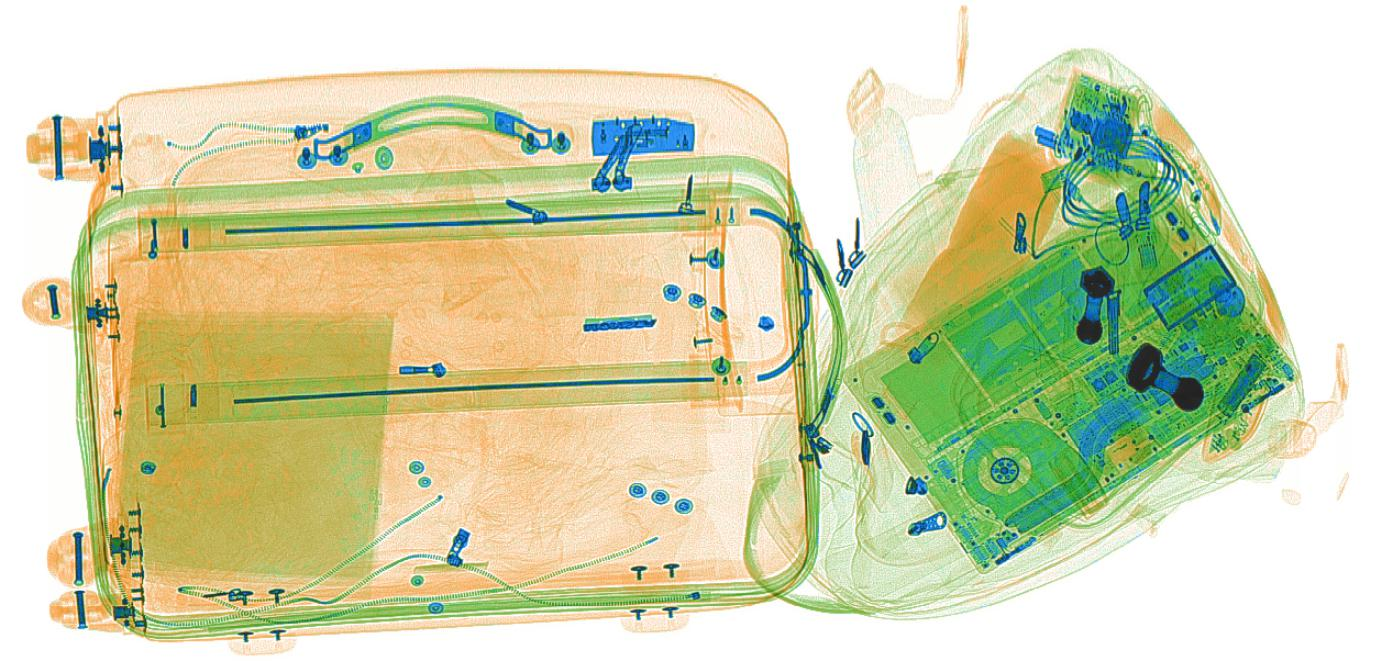battery: (1215, 351, 1268, 421)
seal: (1124, 340, 1206, 412), (1074, 266, 1116, 347)
